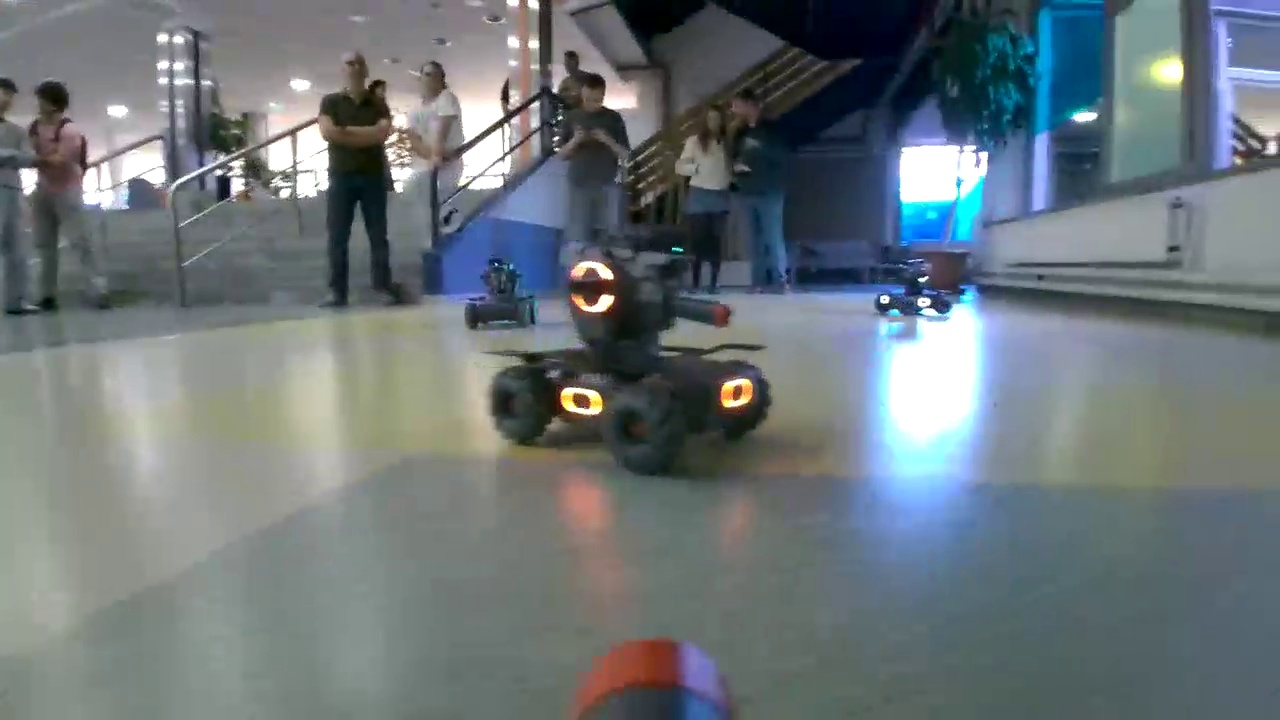robot: (488, 246, 777, 471), (474, 252, 542, 326), (872, 256, 950, 318)
